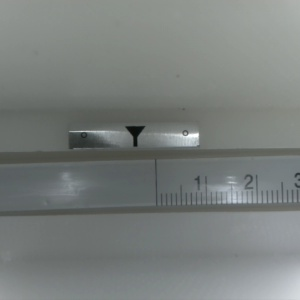1: (194, 175, 200, 189)
2: (243, 174, 253, 189)
3: (293, 171, 300, 188)
finger: (124, 126, 144, 146)
